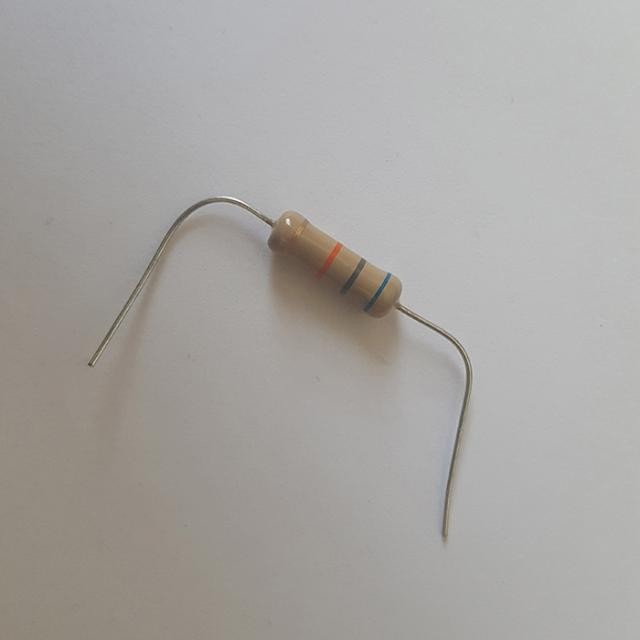blue: (364, 272, 392, 312)
gold: (285, 221, 306, 245)
grey: (341, 256, 366, 293)
orange: (317, 241, 341, 276)
resistor: (253, 190, 420, 340)
